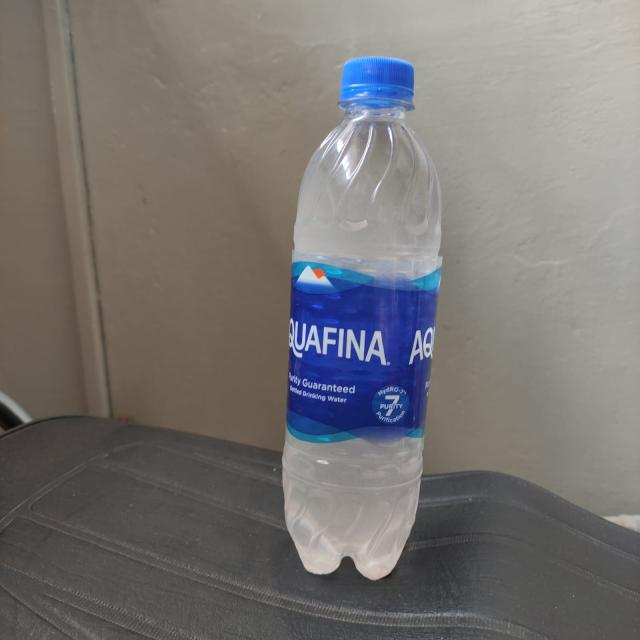bottle: (281, 48, 449, 576)
cap: (334, 52, 421, 116)
label: (287, 264, 433, 443)
